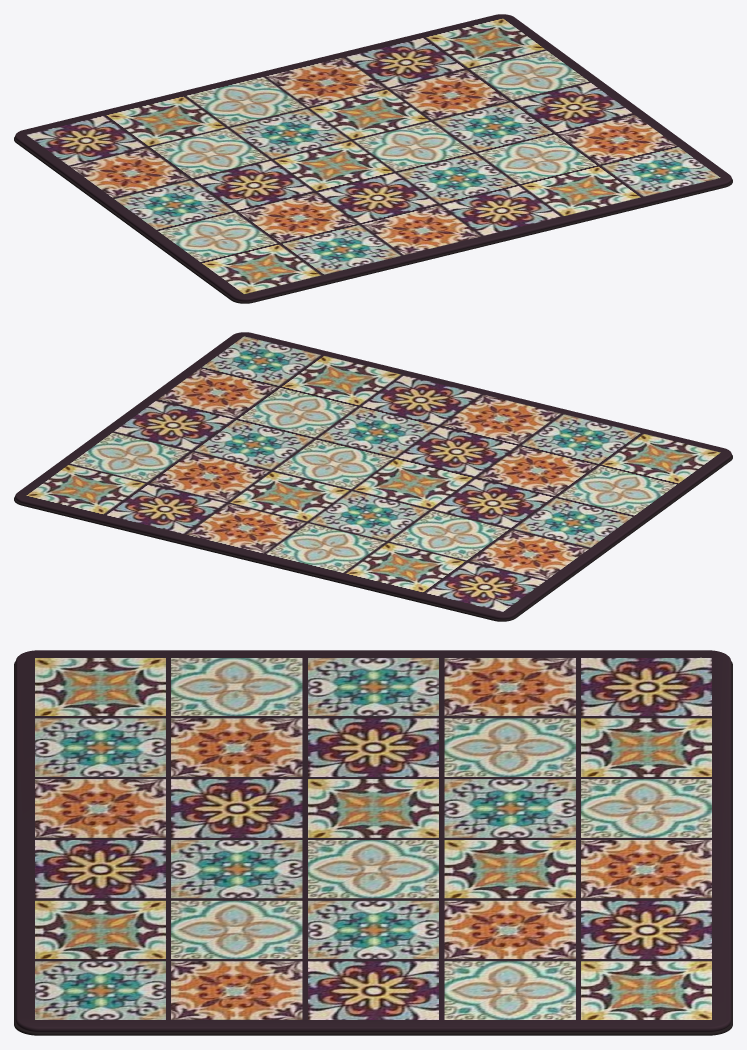
File: dish_mat.glb
The picture shows the model from 3 angles, top to bottom: view 1: azimuth 30°, elevation 25°; view 2: azimuth 150°, elevation 25°; view 3: azimuth 270°, elevation 25°; orthographic projection. The views are drawn at different scales.
Visible parts, largest first — view 1: HomeCloud Dish Drying Mat; view 2: HomeCloud Dish Drying Mat; view 3: HomeCloud Dish Drying Mat.
Part boxes in pixels (x1,y1,x2,y2): HomeCloud Dish Drying Mat: [14, 14, 732, 303]; HomeCloud Dish Drying Mat: [14, 332, 732, 621]; HomeCloud Dish Drying Mat: [14, 650, 732, 1035].
Size of the model in its own units: 0.5 by 0.0045 by 0.4.
2 materials, 1 textured.
